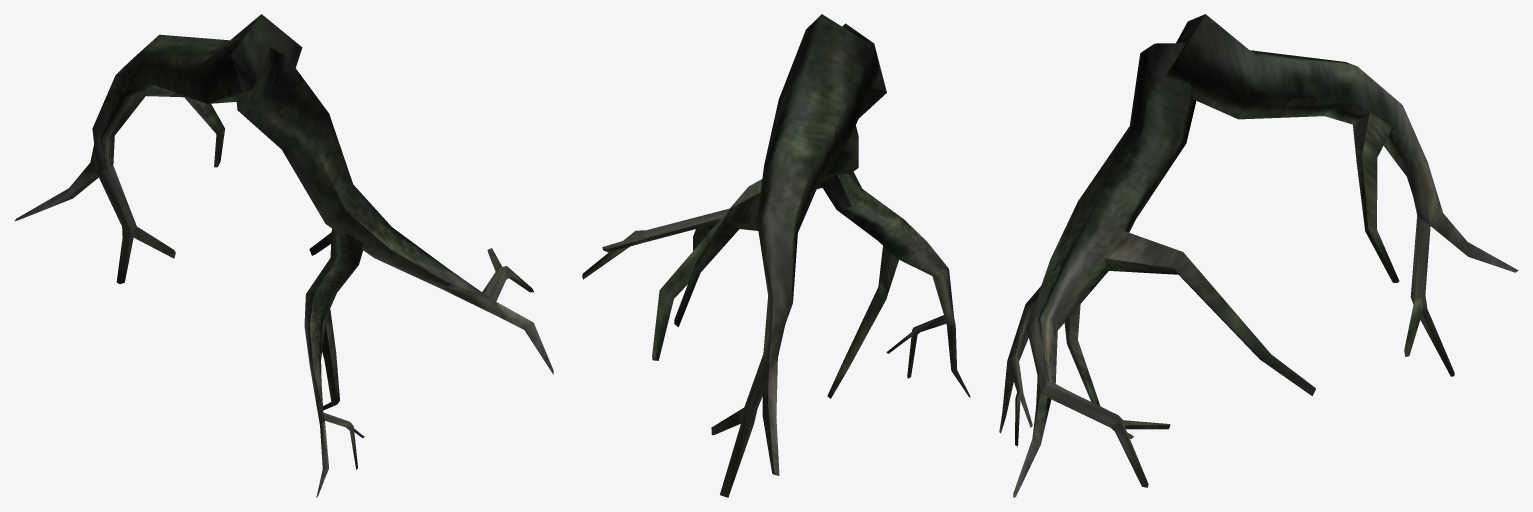
File: pir_m_prp_cav_treeRoots_b.fbx
The picture shows the model from 3 angles, left to right: view 1: azimuth 30°, elevation 25°; view 2: azimuth 150°, elevation 25°; view 3: azimuth 270°, elevation 25°; orthographic projection. The views are drawn at different scales.
Visible parts, largest first — view 1: lod_high; view 2: lod_high; view 3: lod_high.
Part boxes in pixels (x1,y1,x2,y2): lod_high: (15, 14, 553, 497); lod_high: (582, 14, 970, 497); lod_high: (999, 14, 1518, 497).
Bounding box in the file's own units: 6329 × 7040 × 7526.
1 material, 1 textured.
